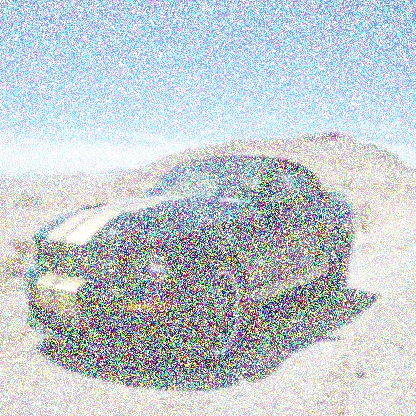Vehicle: (25, 155, 356, 365)
